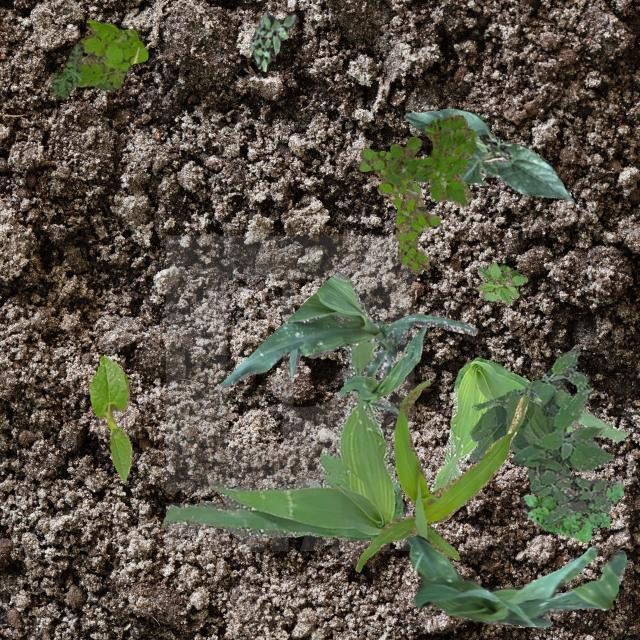crop: (354, 380, 528, 570), (219, 270, 476, 386), (406, 534, 626, 628), (402, 108, 572, 200), (468, 378, 612, 482), (338, 322, 426, 413), (88, 354, 130, 480)
weed: (162, 340, 402, 540), (428, 357, 628, 526), (510, 346, 610, 526), (358, 148, 440, 274), (386, 114, 476, 206), (520, 476, 622, 542), (75, 18, 146, 88), (250, 10, 296, 70), (476, 262, 526, 304), (48, 41, 84, 98)
